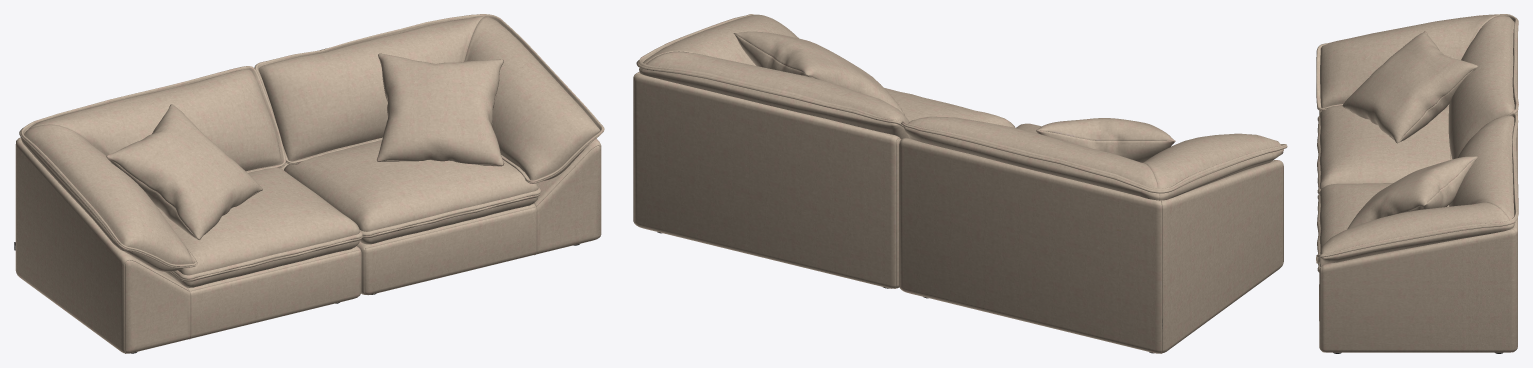
Rendered from sofa47576.glb.
3 views of the same model, side by side, from view 1: azimuth 30°, elevation 25°; view 2: azimuth 150°, elevation 25°; view 3: azimuth 270°, elevation 25° (orthographic). The views are drawn at different scales.
Parts seen in each view (by area): view 1: sofa47576; view 2: sofa47576; view 3: sofa47576.
Boxes of the visible parts, x1,y1,x2,y2 form: sofa47576: (14, 14, 604, 353); sofa47576: (633, 14, 1287, 353); sofa47576: (1316, 14, 1518, 353).
Bounding box in the file's own units: 2.52 × 0.81 × 1.02.
1 material, 1 textured.
